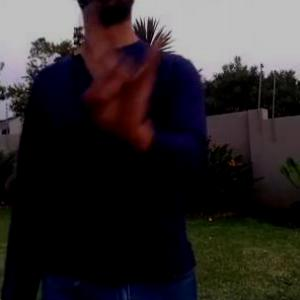takeoff-hand: (73, 8, 166, 153)
